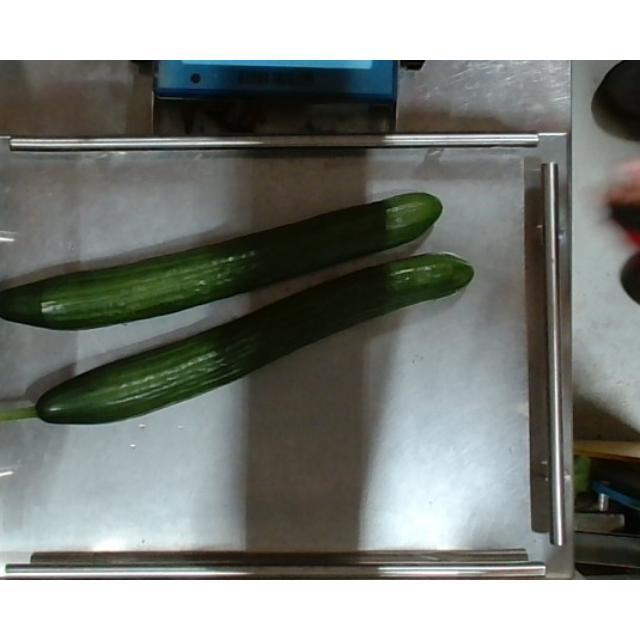cucumber: (0, 252, 474, 424), (1, 192, 443, 332)
